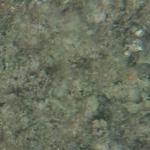dead: (3, 6, 145, 145)
